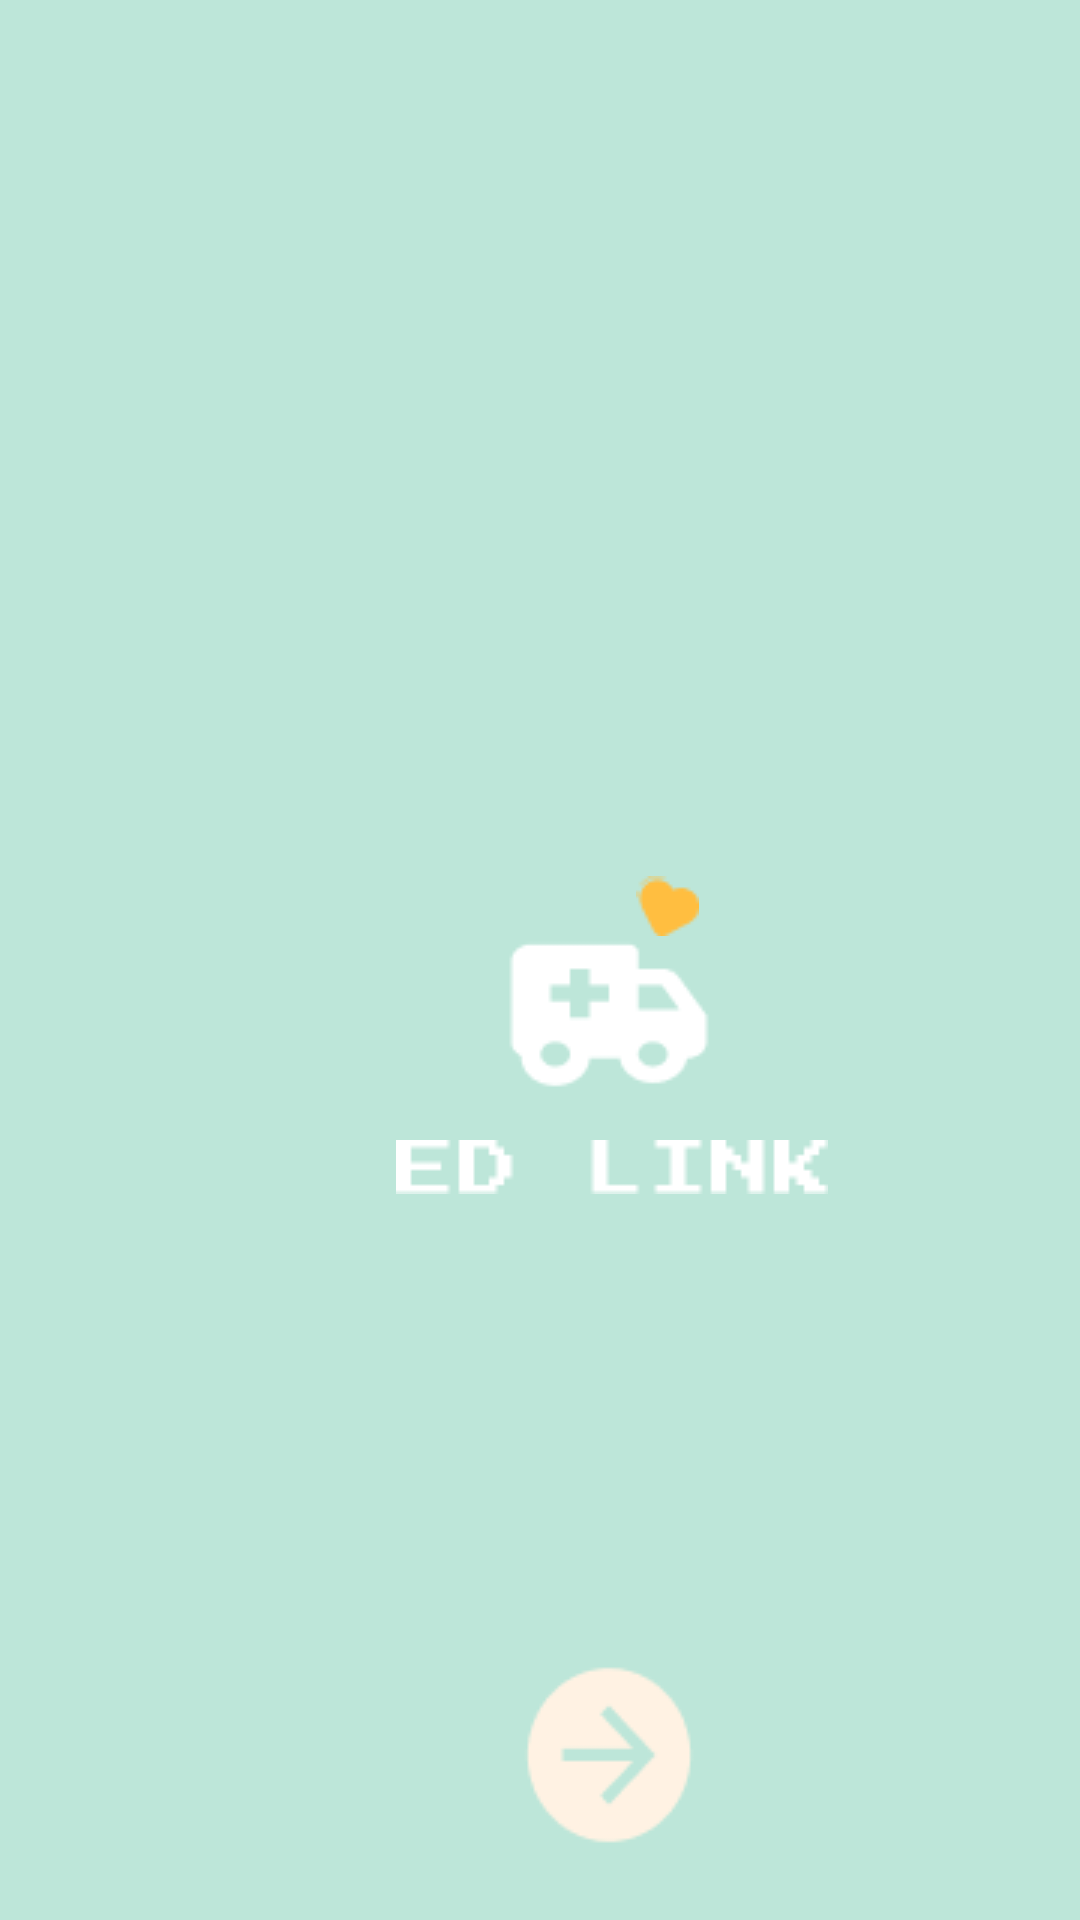

Named icons in this screenshot (1080 × 1920) and their centers, (x=x, y=y):
brightarrow: (x=609, y=1755)
bxs ambulance: (x=609, y=1015)
heart: (x=667, y=906)
